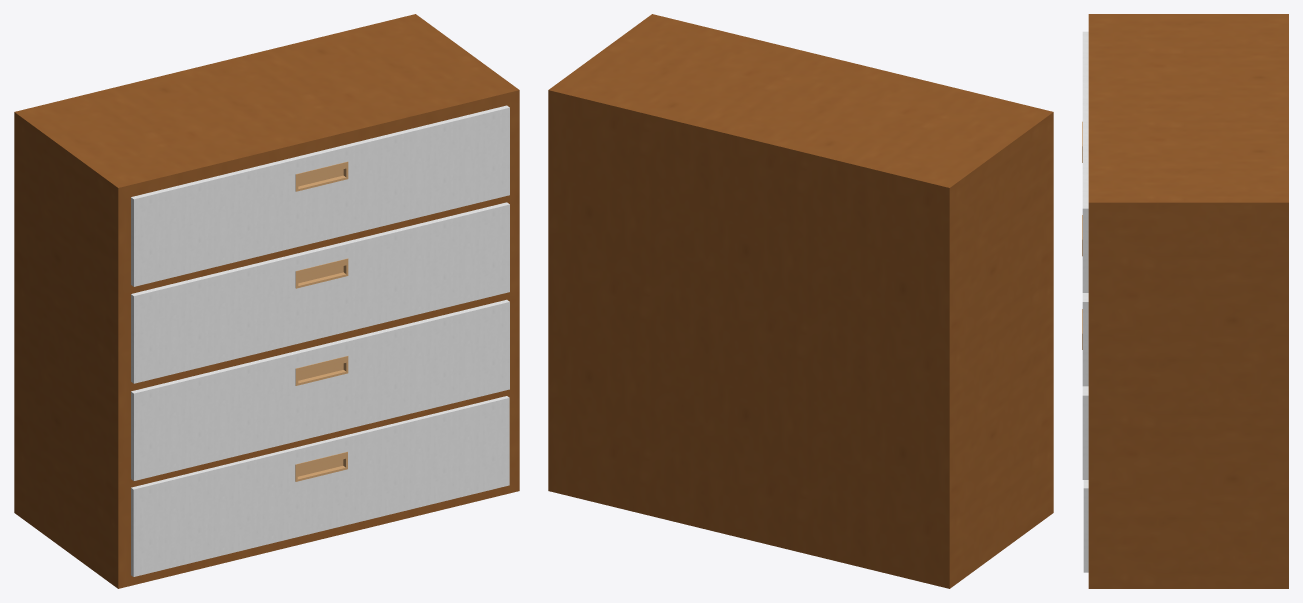
Rendered from Drawer16.fbx.
3 renders of one model, left to right at view 1: azimuth 30°, elevation 25°; view 2: azimuth 150°, elevation 25°; view 3: azimuth 270°, elevation 25°, orthographic. The views are drawn at different scales.
Parts seen in each view (by area): view 1: Drawer16_Body, Drawer16_1, Drawer16_3, Drawer16_2, Drawer16_4; view 2: Drawer16_Body; view 3: Drawer16_Body, Drawer16_1, Drawer16_2, Drawer16_3, Drawer16_4.
Part boxes in pixels (left/top/right/bottom): Drawer16_Body: left=14, top=14, right=519, bottom=588; Drawer16_1: left=131, top=105, right=509, bottom=286; Drawer16_3: left=131, top=299, right=509, bottom=480; Drawer16_2: left=131, top=202, right=509, bottom=383; Drawer16_4: left=131, top=396, right=509, bottom=576; Drawer16_Body: left=548, top=14, right=1053, bottom=588; Drawer16_Body: left=1088, top=14, right=1288, bottom=588; Drawer16_1: left=1082, top=31, right=1088, bottom=292; Drawer16_2: left=1082, top=215, right=1088, bottom=386; Drawer16_3: left=1082, top=309, right=1088, bottom=479; Drawer16_4: left=1083, top=480, right=1088, bottom=572.
Bounding box in the file's own units: 84.51 × 80.66 × 39.12.
